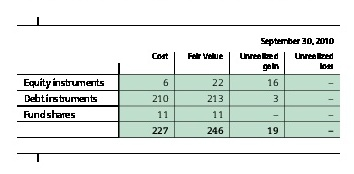table: (0, 0, 354, 174)
